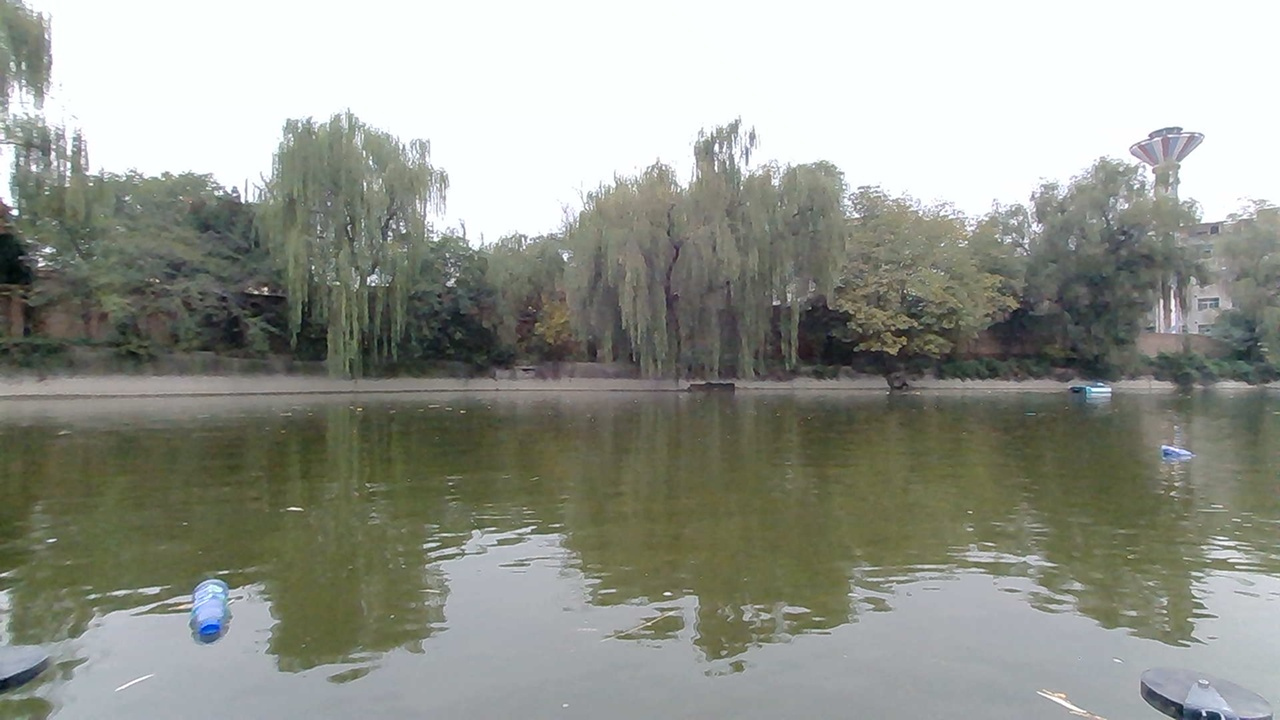bottle: (182, 573, 244, 645), (1155, 440, 1200, 474)
